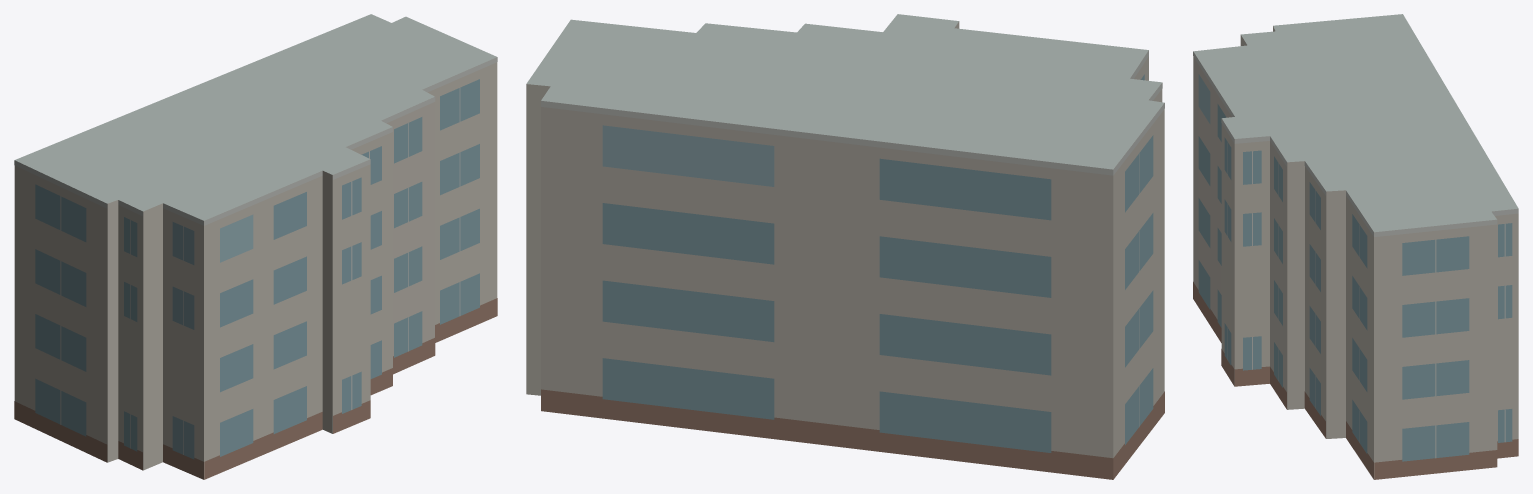
Rendered from survey-upis-33036047.glb.
3 views of the same model, side by side, from view 1: azimuth 30°, elevation 25°; view 2: azimuth 150°, elevation 25°; view 3: azimuth 270°, elevation 25° (orthographic). The views are drawn at different scales.
Visible parts, largest first — view 1: survey-upis-33036047.tmp; view 2: survey-upis-33036047.tmp; view 3: survey-upis-33036047.tmp.
Boxes of the visible parts, left/top/right/bottom form: survey-upis-33036047.tmp: left=14, top=14, right=497, bottom=479; survey-upis-33036047.tmp: left=526, top=14, right=1164, bottom=479; survey-upis-33036047.tmp: left=1193, top=14, right=1518, bottom=479.
Size of the model in its own units: 23.68 by 12.52 by 14.92.
